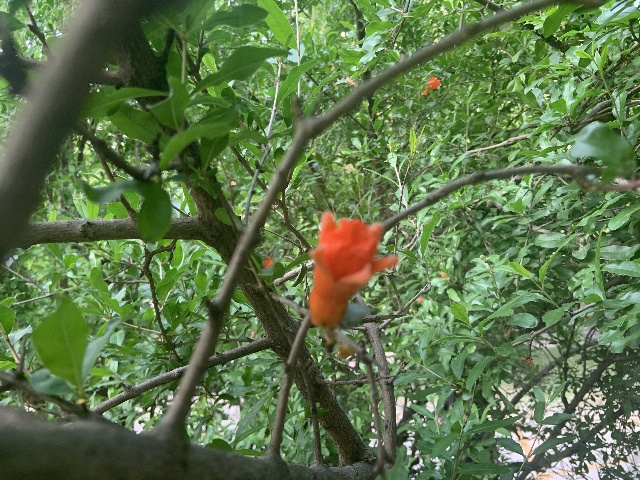flower: (307, 211, 398, 327), (421, 76, 440, 95)
